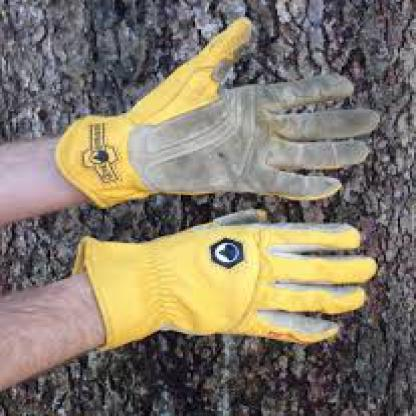with_gloves: (54, 15, 378, 210), (72, 209, 378, 354)
